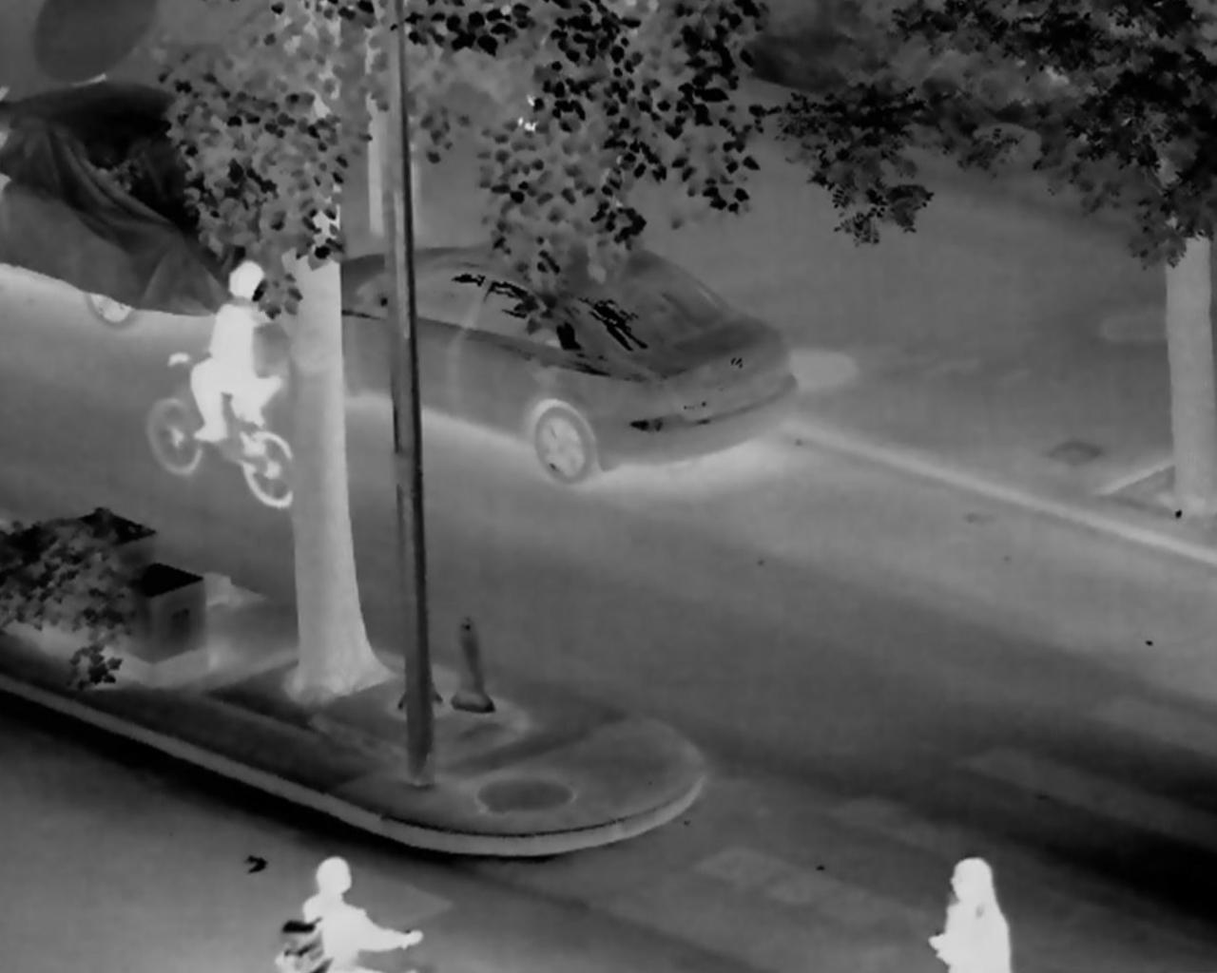person: (290, 855, 426, 973), (191, 259, 273, 444), (930, 853, 1016, 973)
